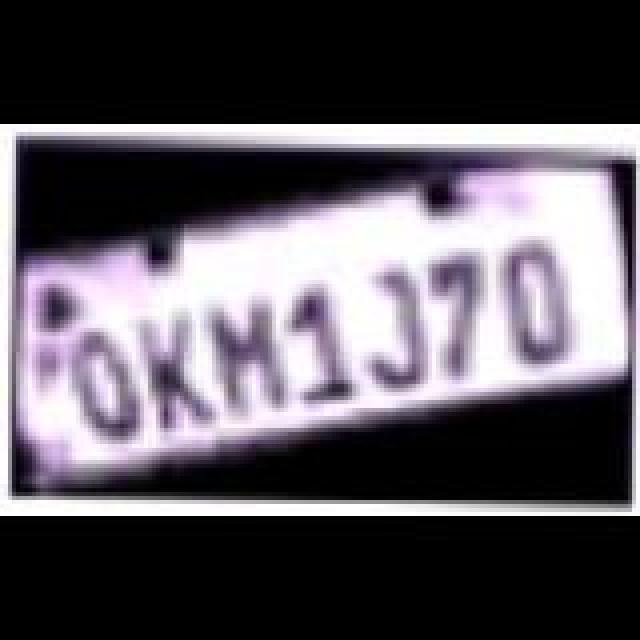1: (262, 280, 370, 408)
7: (408, 254, 520, 386)
D: (482, 234, 590, 366)
J: (344, 268, 448, 396)
K: (122, 314, 230, 438)
M: (194, 294, 302, 418)
O: (56, 328, 160, 448)
